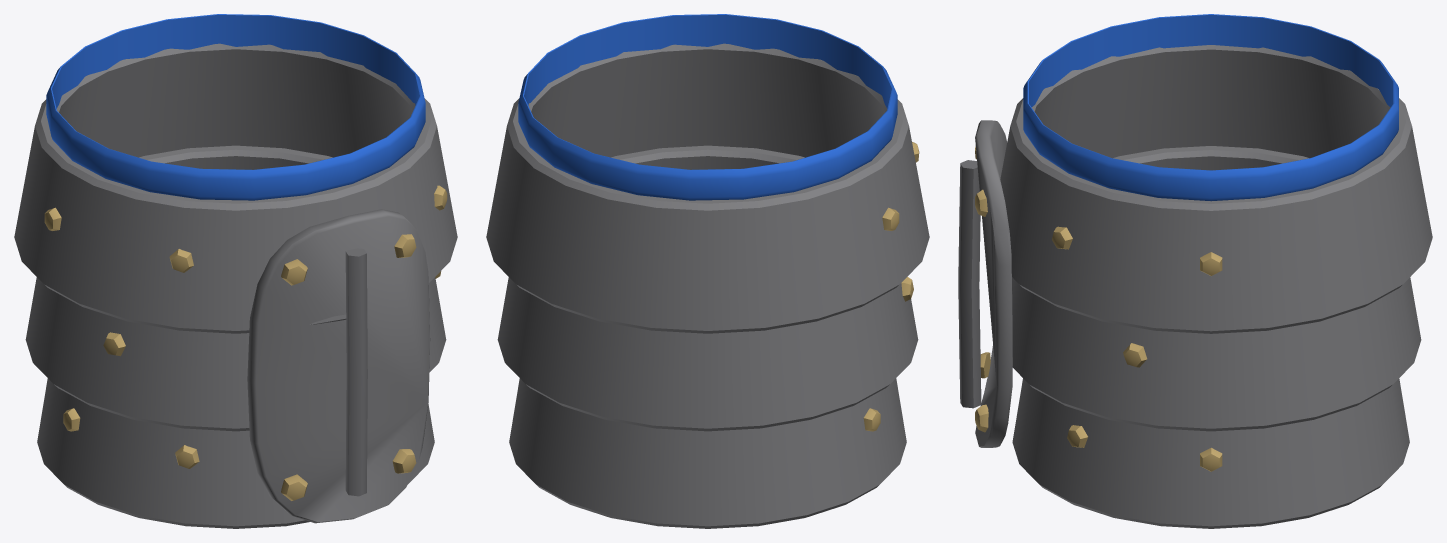
Rendered from Kit_Deco_Gauntlet_L.glb.
The picture shows the model from 3 angles, left to right: view 1: azimuth 30°, elevation 25°; view 2: azimuth 150°, elevation 25°; view 3: azimuth 270°, elevation 25°; orthographic projection.
Parts seen in each view (by area): view 1: Kit_Deco_Gauntlet_L; view 2: Kit_Deco_Gauntlet_L; view 3: Kit_Deco_Gauntlet_L.
Boxes of the visible parts, x1,y1,x2,y2 form: Kit_Deco_Gauntlet_L: [14, 14, 457, 528]; Kit_Deco_Gauntlet_L: [486, 14, 929, 528]; Kit_Deco_Gauntlet_L: [958, 14, 1432, 528].
Bounding box in the file's own units: 0.222 × 0.196 × 0.2378.
